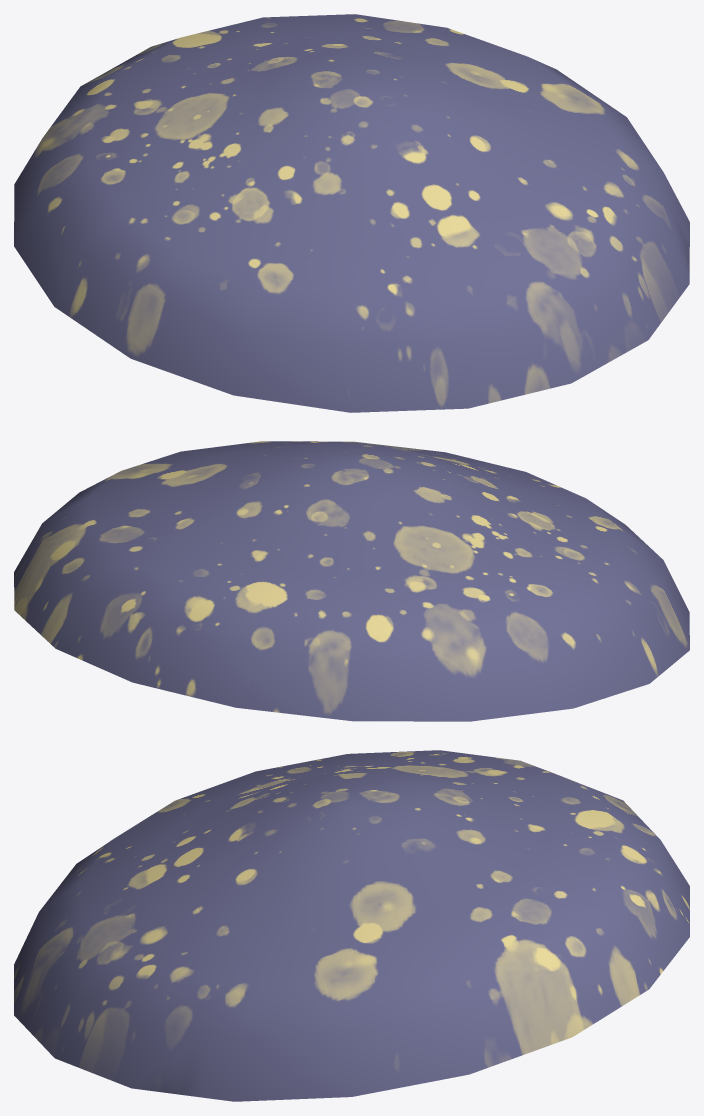
The model's file is MushroomCapType2.fbx.
3 renders of one model, top to bottom at view 1: azimuth 30°, elevation 25°; view 2: azimuth 150°, elevation 25°; view 3: azimuth 270°, elevation 25°, orthographic.
Visible parts, largest first — view 1: CapHood1; view 2: CapHood1; view 3: CapHood1.
Part boxes in pixels (<box>): CapHood1: <box>14,14,689,412</box>; CapHood1: <box>14,441,689,721</box>; CapHood1: <box>14,750,689,1101</box>.
Size of the model in its own units: 8.93 by 3.55 by 8.72.
